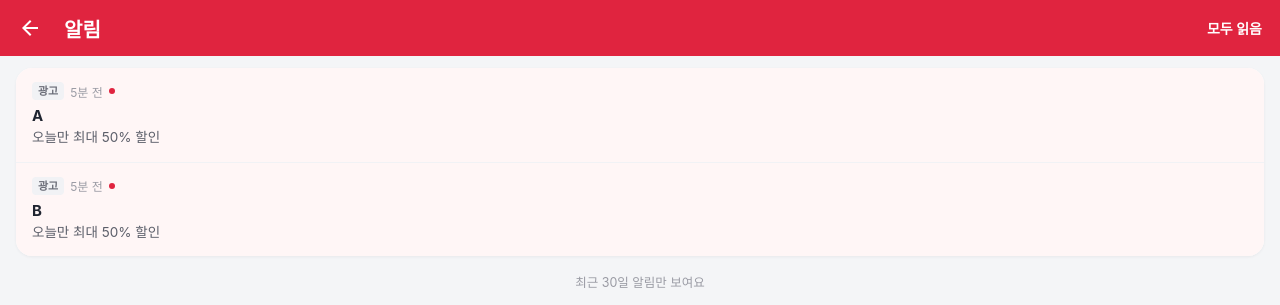
Scenario: NotificationsPage › read-all clears unread and hides the button
The image size is (1280, 305).
Click the button "모두 읽음": {"x": 1234, "y": 28} left=1197, top=6, right=1272, bottom=50
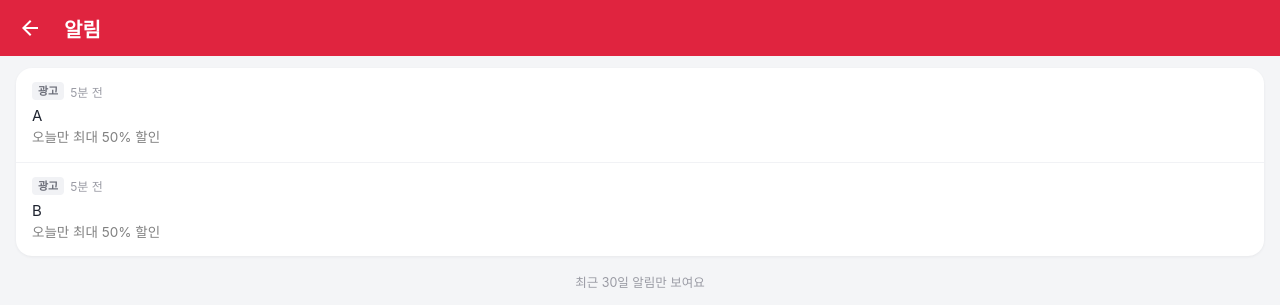
Expected: the button "모두 읽음" is gone
